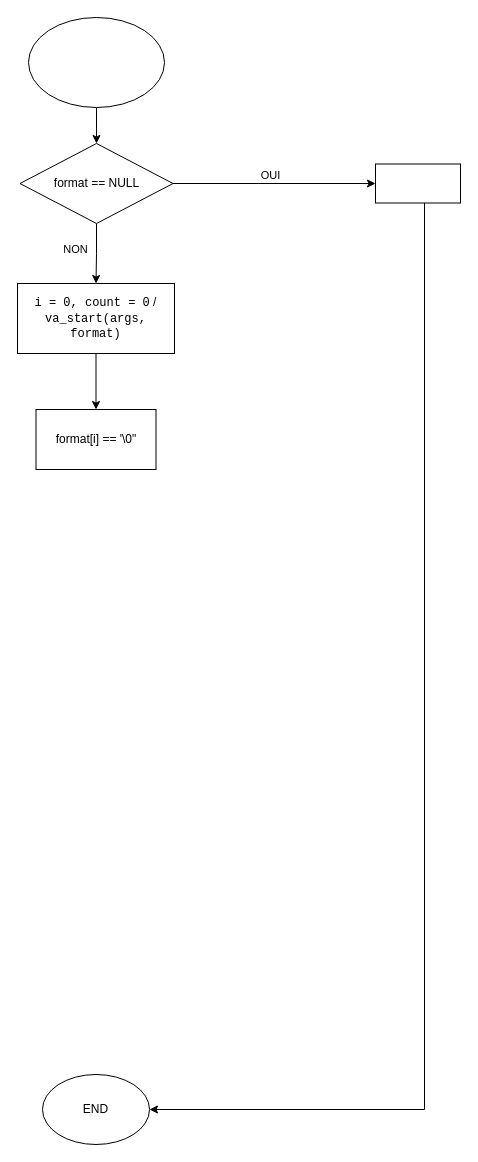
Some shapes in this 478 by 1162 pixel diagram are drawn without their labels. Each missing label, with the centre of its shape:
return -1: [417,183]
START: [96,62]
